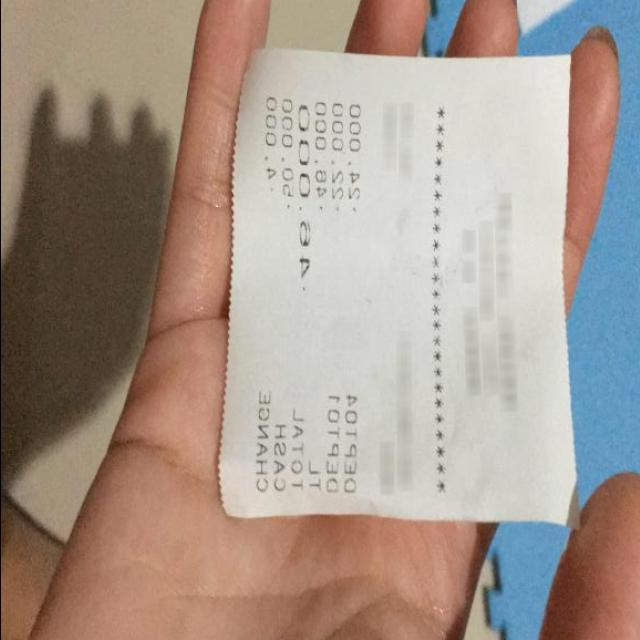kertas: (217, 49, 588, 527)
